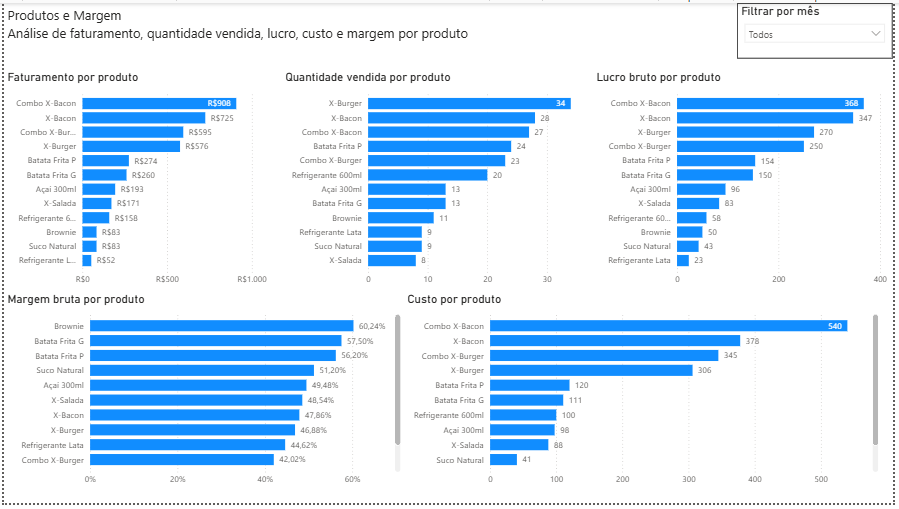

Layout of this report page (visuals, bound fields, positions):
{"tool":"powerbi","page":{"name":"Produtos e Margem","canvas":[1280,720],"ordinal":2},"visuals":[{"type":"clusteredBarChart","title":"Faturamento por produto","fields":{"Category":["Produtos.Produto"],"Y":["Vendas.Faturamento"]},"box":[0,96,400,320],"z":0},{"type":"clusteredBarChart","title":"Quantidade vendida por produto","fields":{"Category":["Produtos.Produto"],"Y":["Vendas.Quantidade Vendida"]},"box":[400,96,448,320],"z":1000},{"type":"clusteredBarChart","title":"Lucro bruto por produto","fields":{"Category":["Produtos.Produto"],"Y":["Vendas.Lucro Bruto"]},"box":[848,96,432,320],"z":2000},{"type":"clusteredBarChart","title":"Margem bruta por produto","fields":{"Category":["Produtos.Produto"],"Y":["Vendas.Margem Bruta %"]},"box":[0,416,576,288],"z":3000},{"type":"clusteredBarChart","title":"Custo por produto","fields":{"Category":["Produtos.Produto"],"Y":["Vendas.Custo Total"]},"box":[576,416,688,288],"z":4000},{"type":"textbox","box":[0,0,704,80],"z":5000},{"type":"slicer","title":"Filtrar por mês","fields":{"Values":["Calendario.Ano_Mes"]},"box":[1056,0,224,80],"z":5001}]}

Visuals, with their boxes in screenshot pixels (x1, y1, x2, y2), scaled from the page's 1280x720 canvas onto the 899x509 screenshot:
"Faturamento por produto" clusteredBarChart: crop(0, 68, 281, 294)
"Quantidade vendida por produto" clusteredBarChart: crop(281, 68, 596, 294)
"Lucro bruto por produto" clusteredBarChart: crop(596, 68, 898, 294)
"Margem bruta por produto" clusteredBarChart: crop(0, 294, 405, 498)
"Custo por produto" clusteredBarChart: crop(405, 294, 888, 498)
textbox: crop(0, 0, 494, 57)
"Filtrar por mês" slicer: crop(742, 0, 898, 57)
